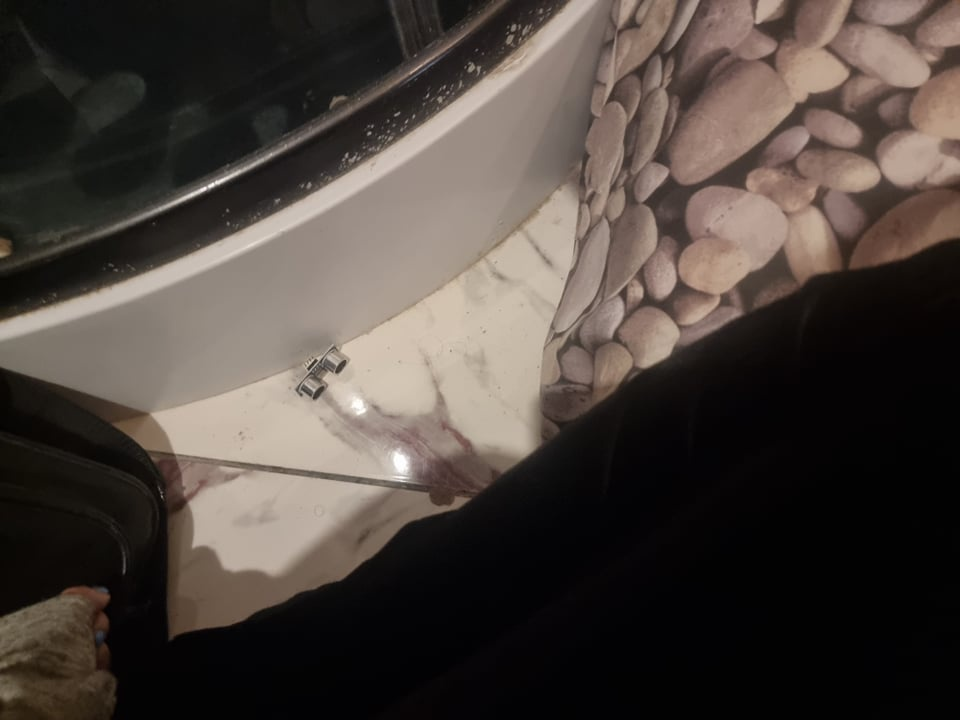SENSOR: (289, 346, 350, 403)
